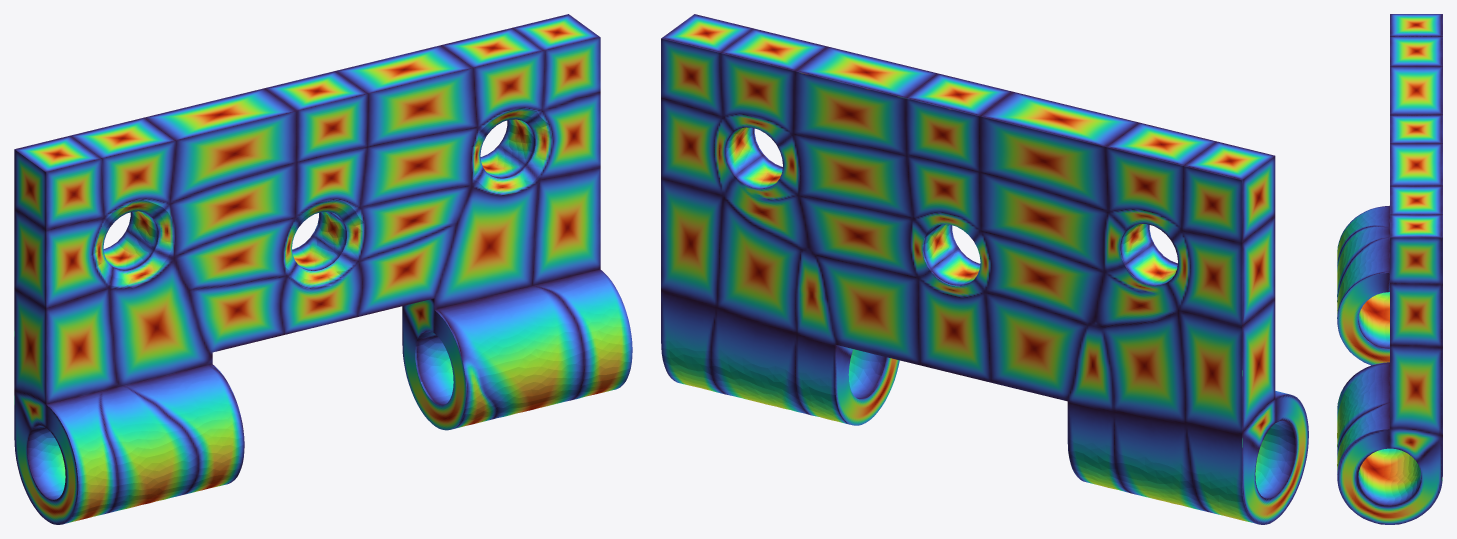
Rendered from gen2.glb.
The picture shows the model from 3 angles, left to right: view 1: azimuth 30°, elevation 25°; view 2: azimuth 150°, elevation 25°; view 3: azimuth 270°, elevation 25°; orthographic projection. The views are drawn at different scales.
Visible parts, largest first — view 1: Node; view 2: Node; view 3: Node.
Boxes of the visible parts, x1,y1,x2,y2 form: Node: (14,14,632,524); Node: (661,14,1308,524); Node: (1337,14,1442,524).
Bounding box in the file's own units: 50 × 30 × 10.
Materials: 1 (1 with a texture image).
